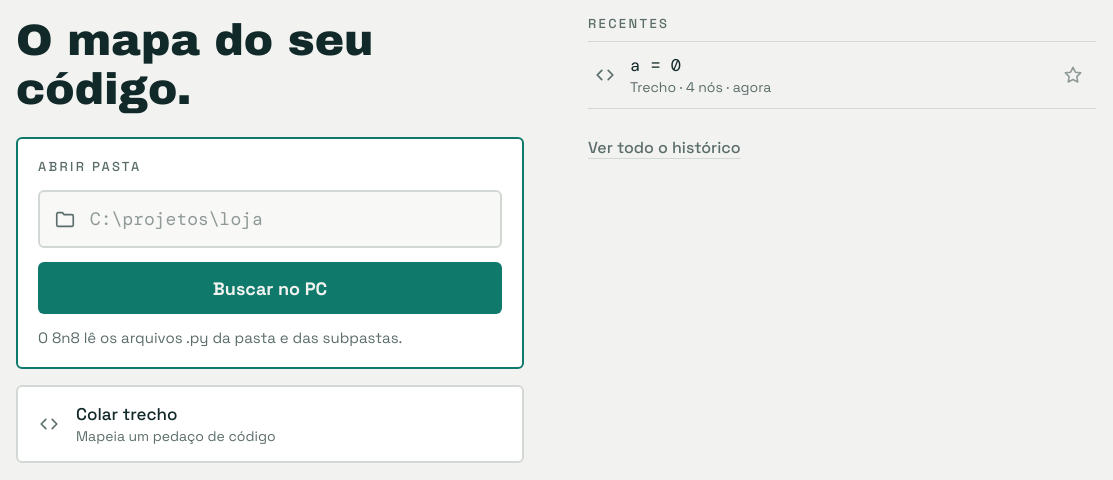
Test: Home › starring a recent moves it to Favoritos; unstarring moves it back
This screenshot has width=1113, height=480.
Expected: the element "Recentes" is shown, [588,16,1096,109]
What coordinates should you click on to do the following:
click the button named "Pôr a = 0 nos favoritos"
I would click on:
 (1073, 75)
Its box is [1050,42,1096,108].
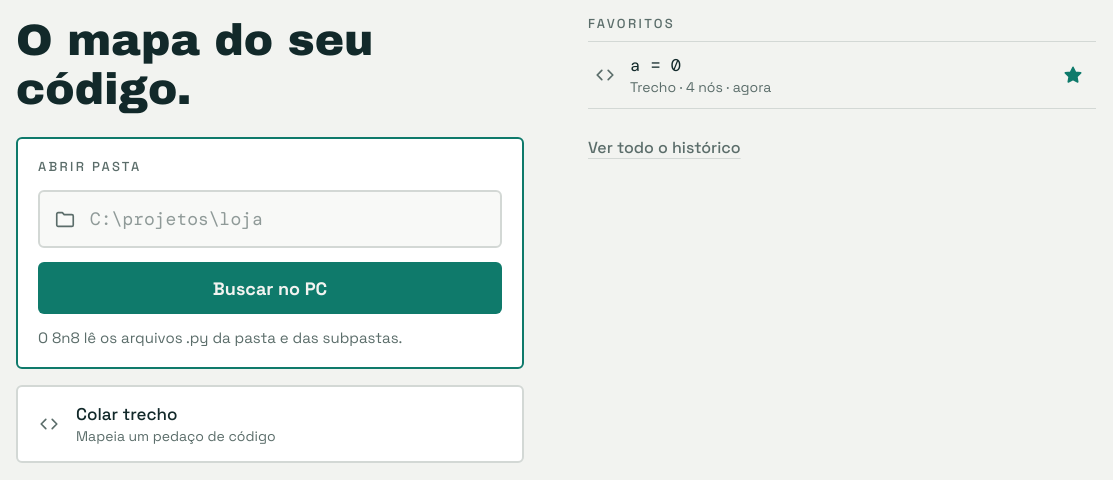
Expected: the element "Favoritos" is shown, [588,16,1096,109]
Expected: the heading "Recentes" is gone
What coordinates should you click on to do the following:
click the button named "Tirar a = 0 dos favoritos"
I would click on:
 (1073, 75)
Its box is [1050,42,1096,108].
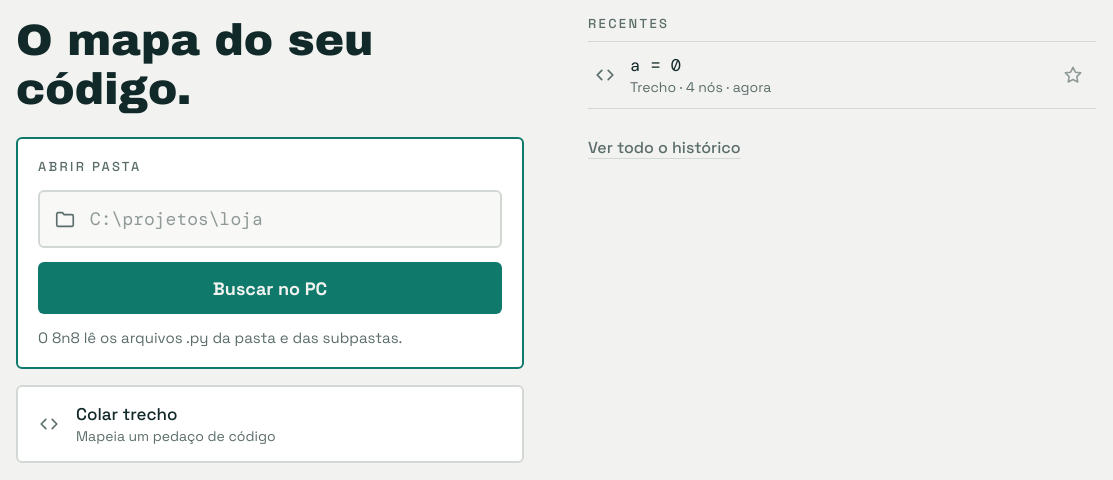
Expected: the element "Recentes" is shown, [588,16,1096,109]
